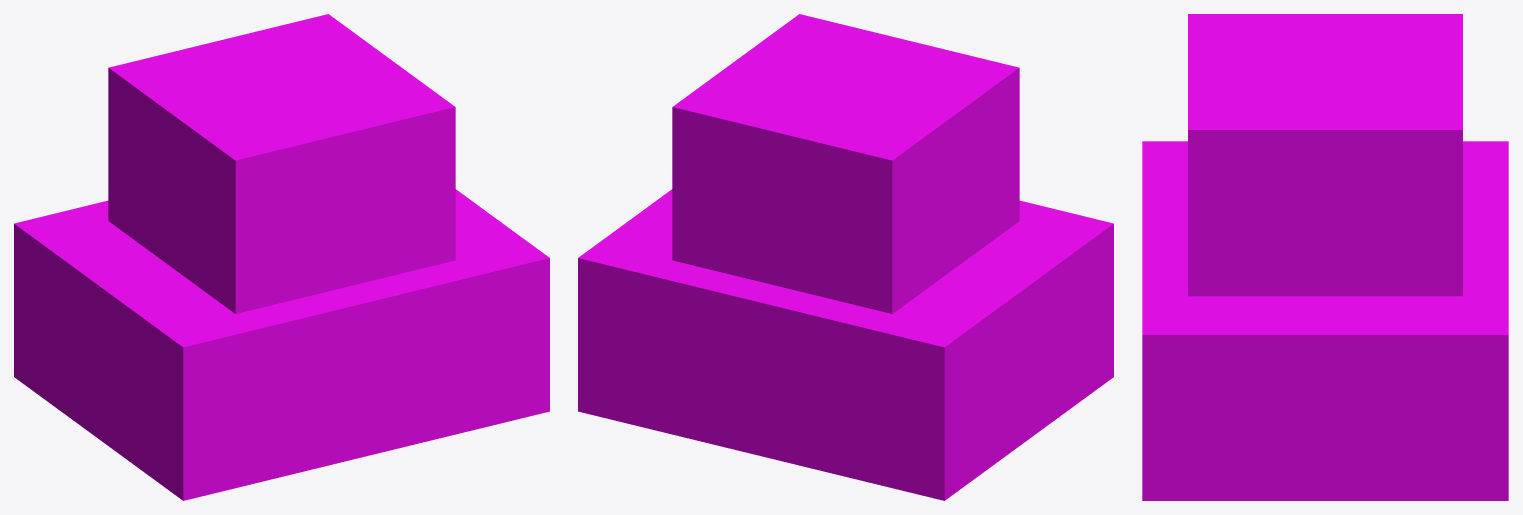
File: foot_medium.obj
3 renders of one model, left to right at view 1: azimuth 30°, elevation 25°; view 2: azimuth 150°, elevation 25°; view 3: azimuth 270°, elevation 25°, orthographic. The views are drawn at different scales.
Parts seen in each view (by area): view 1: foot_medium_humanoid_box; view 2: foot_medium_humanoid_box; view 3: foot_medium_humanoid_box.
Part boxes in pixels (left/top/right/bottom): foot_medium_humanoid_box: left=14, top=14, right=549, bottom=500; foot_medium_humanoid_box: left=578, top=14, right=1113, bottom=500; foot_medium_humanoid_box: left=1142, top=14, right=1508, bottom=500.
Size of the model in its own units: 10 by 8 by 8.
